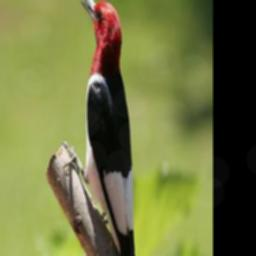Woodpecker: (75, 0, 146, 256)
